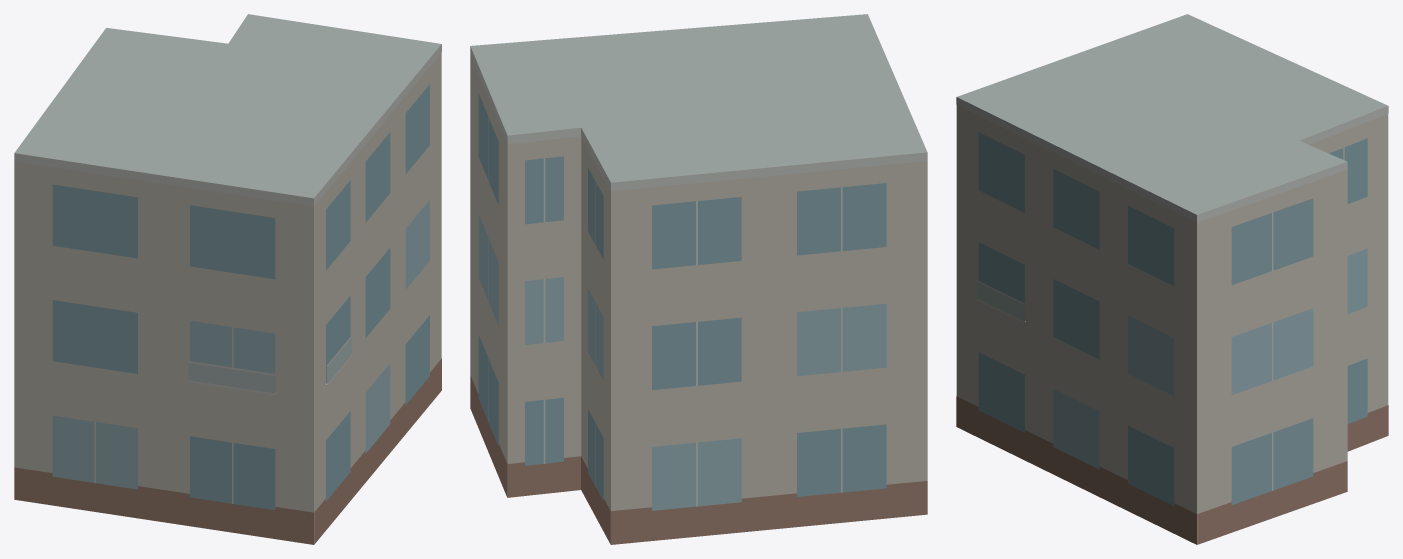
File: survey-upis-32546305.glb
The picture shows the model from 3 angles, left to right: view 1: azimuth 30°, elevation 25°; view 2: azimuth 150°, elevation 25°; view 3: azimuth 270°, elevation 25°; orthographic projection. The views are drawn at different scales.
Parts seen in each view (by area): view 1: survey-upis-32546305.tmp; view 2: survey-upis-32546305.tmp; view 3: survey-upis-32546305.tmp.
Part boxes in pixels (left/top/right/bottom): survey-upis-32546305.tmp: left=14, top=14, right=441, bottom=544; survey-upis-32546305.tmp: left=470, top=14, right=927, bottom=544; survey-upis-32546305.tmp: left=956, top=14, right=1388, bottom=544.
Size of the model in its own units: 13.33 by 10.2 by 12.11.
